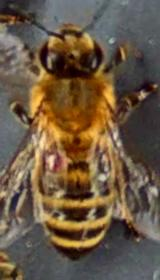varroa_mite: (36, 144, 72, 172)
